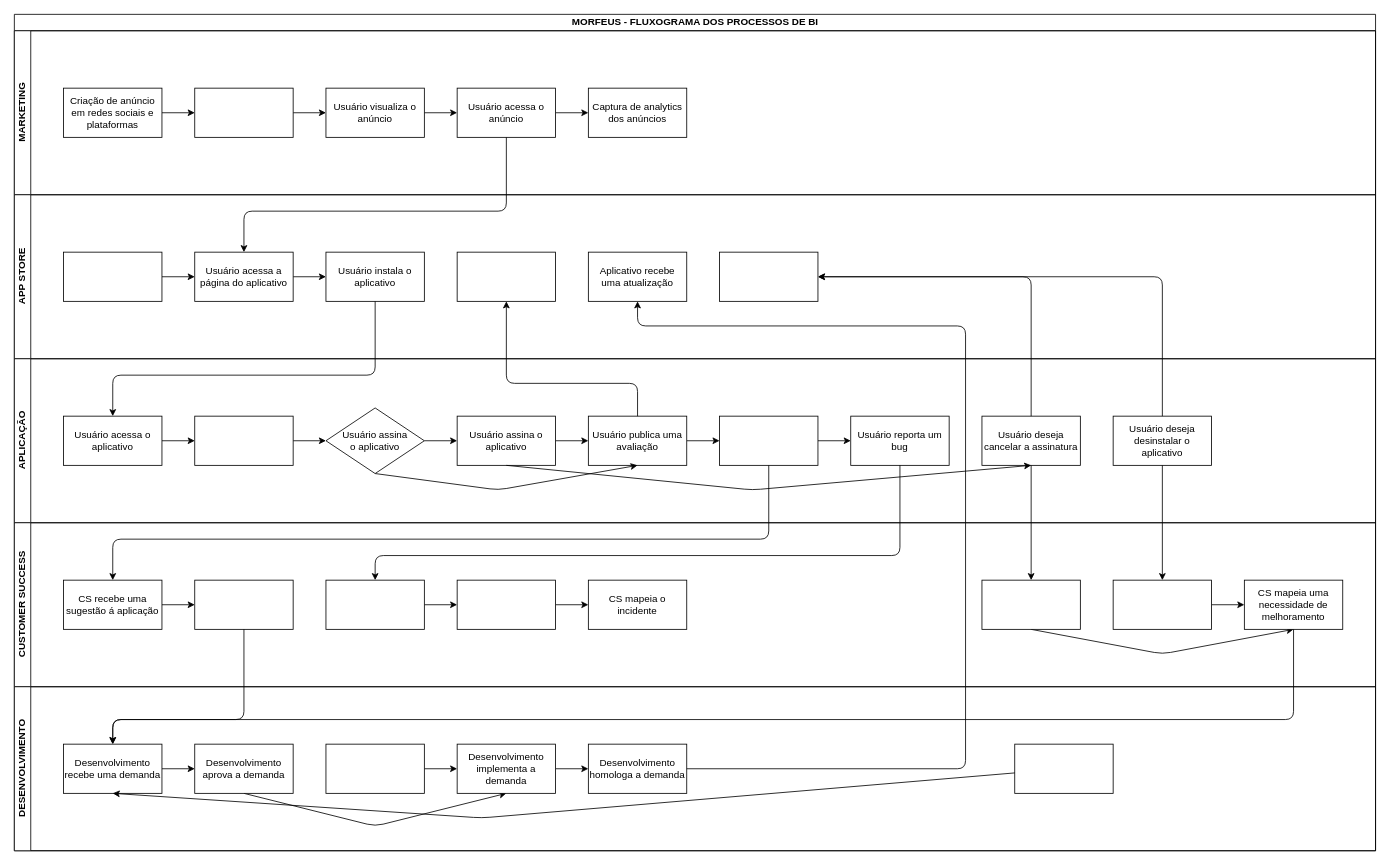
This 1390x865 diagram has some shape labels left out. Here are the shapes that lost their labels. From the top down, the centre of each, then its label:
At [243,112]: "Publicação dos anúncios".
At [112,276]: "Usuário procura por aplicativos".
At [506,276]: "Aplicativo têm sua avaliação atualizada".
At [768,276]: "Página do aplicativo atualiza os analytics".
At [243,440]: "Usuário utiliza o aplicativo".
At [768,440]: "Usuário realiza uma sugestão á aplicação".
At [243,604]: "CS aprova a sugestão".
At [374,604]: "CS recebe um report de bug".
At [506,604]: "CS valida o bug".
At [1030,604]: "CS recebe um formulário de desejo de cancelamento de assinatura".
At [1162,604]: "CS recebe um formulário de desinstalação do aplicativo".
At [374,768]: "Desenvolvimento recebe um incidente".
At [1063,768]: "Product Owner cria nova demanda".
